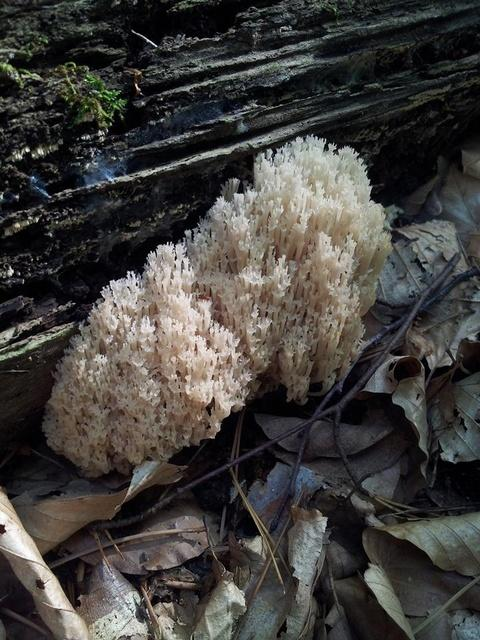Edible Mushroom: (182, 133, 393, 404), (40, 240, 254, 478)
